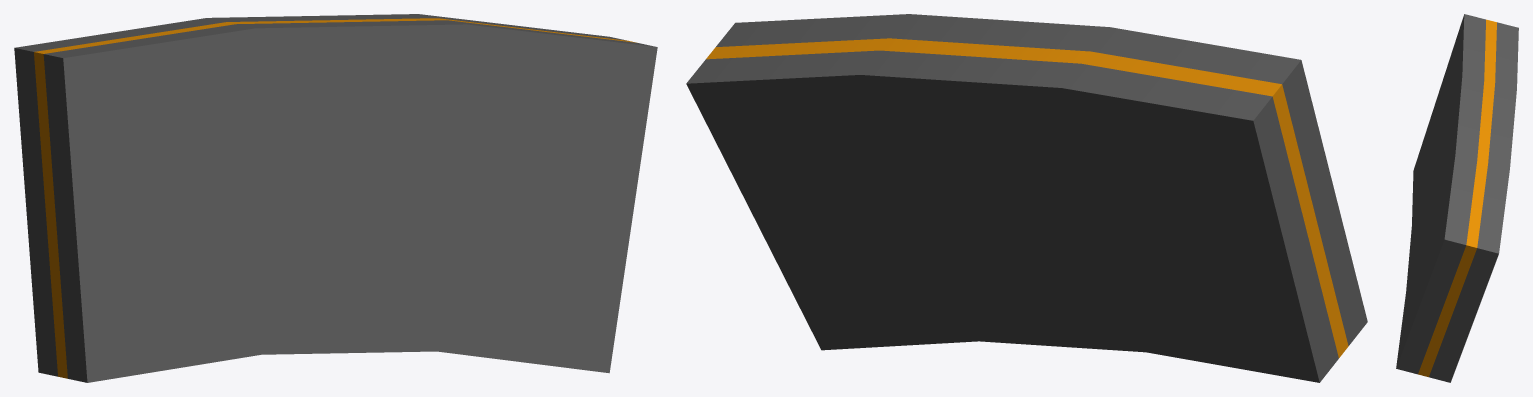
File: Wall_Volcan.fbx
3 renders of one model, left to right at view 1: azimuth 30°, elevation 25°; view 2: azimuth 150°, elevation 25°; view 3: azimuth 270°, elevation 25°, orthographic. The views are drawn at different scales.
Visible parts, largest first — view 1: polySurface31; view 2: polySurface31; view 3: polySurface31.
Part boxes in pixels (bbox=[...]): polySurface31: bbox=[14, 14, 657, 382]; polySurface31: bbox=[686, 14, 1367, 382]; polySurface31: bbox=[1396, 14, 1518, 382].
Size of the model in its own units: 1.08 by 0.7165 by 0.34.
